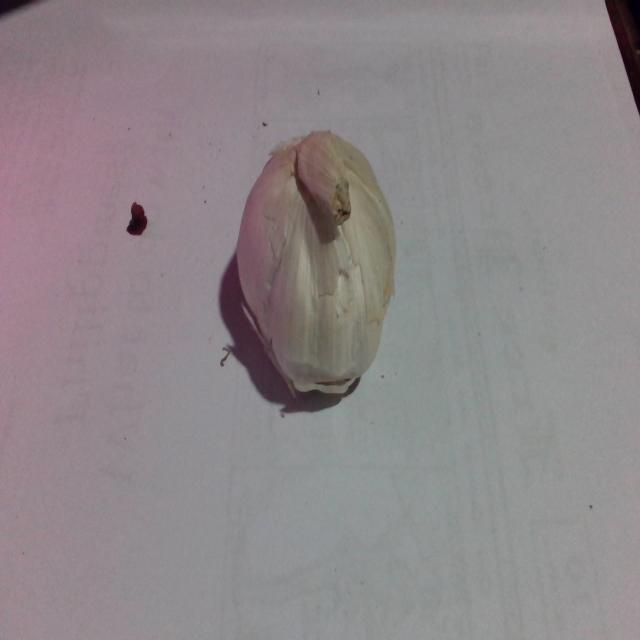garlic: (237, 120, 402, 406)
